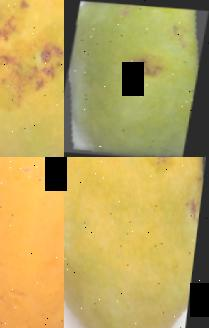PartiallyRipe: (64, 157, 209, 328), (0, 0, 64, 157)
Ripe: (0, 157, 64, 328)
Unripe: (64, 0, 209, 157)
